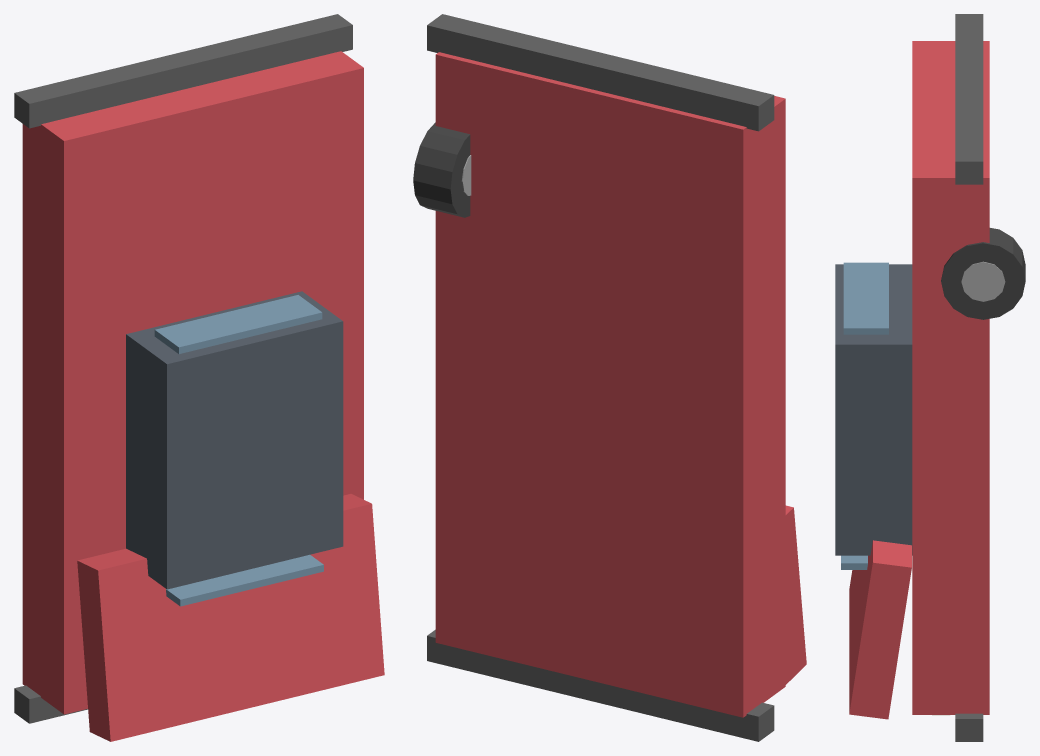
Rendered from vehicle_red_sports_car.glb.
3 views of the same model, side by side, from view 1: azimuth 30°, elevation 25°; view 2: azimuth 150°, elevation 25°; view 3: azimuth 270°, elevation 25° (orthographic). The views are drawn at different scales.
Parts seen in each view (by area): view 1: body, dark_cabin, front_wedge, rear_bumper, rear_window, front_window, front_bumper; view 2: body, rear_bumper, front_bumper, wheel_tire, front_wedge; view 3: body, dark_cabin, front_wedge, rear_bumper, wheel_tire, rear_window, wheel_hub, front_bumper, front_window.
Boxes of the visible parts, left/top/right/bottom form: body: left=22, top=51, right=363, bottom=714; dark_cabin: left=126, top=291, right=343, bottom=589; front_wedge: left=77, top=494, right=384, bottom=741; rear_bumper: left=14, top=14, right=352, bottom=128; rear_window: left=154, top=295, right=322, bottom=353; front_window: left=166, top=554, right=323, bottom=606; front_bumper: left=14, top=685, right=87, bottom=723; body: left=435, top=52, right=785, bottom=717; rear_bumper: left=427, top=14, right=774, bottom=131; front_bumper: left=427, top=629, right=774, bottom=741; wheel_tire: left=413, top=122, right=470, bottom=217; front_wedge: left=785, top=505, right=806, bottom=684; body: left=912, top=41, right=989, bottom=714; dark_cabin: left=835, top=264, right=912, bottom=555; front_wedge: left=849, top=540, right=911, bottom=719; rear_bumper: left=955, top=14, right=983, bottom=184; wheel_tire: left=941, top=228, right=1025, bottom=319; rear_window: left=843, top=262, right=888, bottom=334; wheel_hub: left=961, top=261, right=1005, bottom=301; front_bumper: left=955, top=713, right=983, bottom=741; front_window: left=841, top=555, right=867, bottom=569.
Size of the model in its own units: 2.48 by 4.56 by 1.35.
